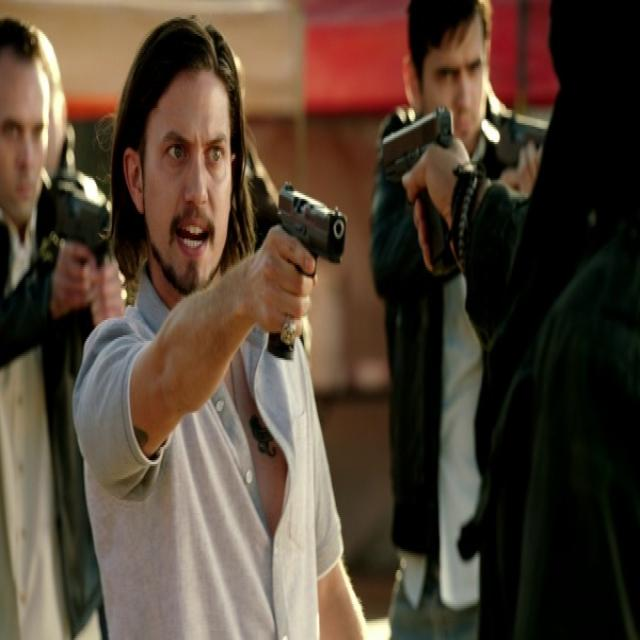weapons: (246, 168, 346, 398), (372, 85, 464, 282)
